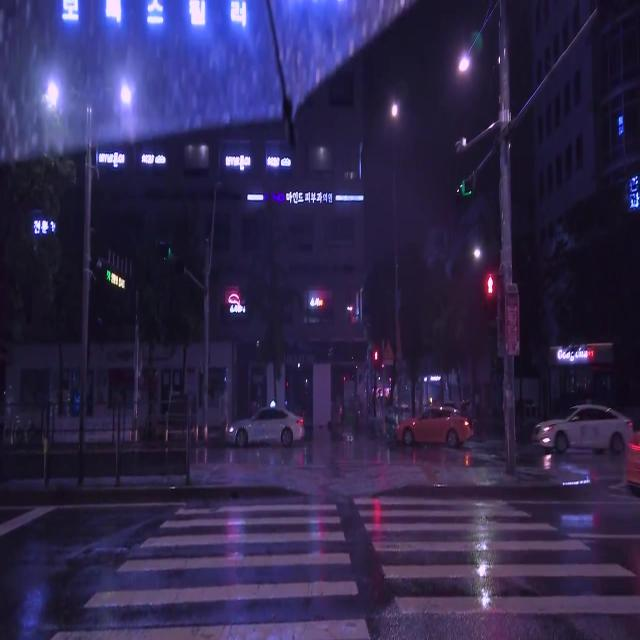Car: (536, 404, 633, 455), (395, 404, 471, 451), (223, 408, 303, 451)
